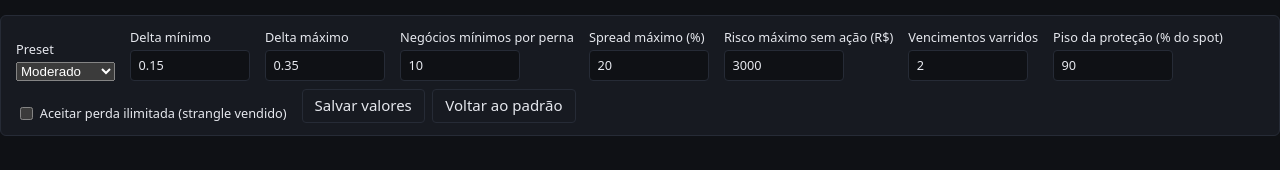
Test: valor recusado pela API aparece como erro
The width and height of the screenshot is (1280, 170).
What coordinates should you click on to do the following:
click the button "Salvar valores"
I would click on:
 (363, 106)
Its box is [302,89,425,123].
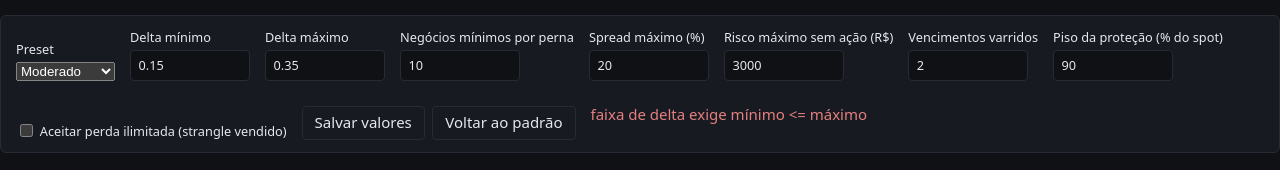
Check: the message shows "faixa de delta", box [590,104,867,124]
